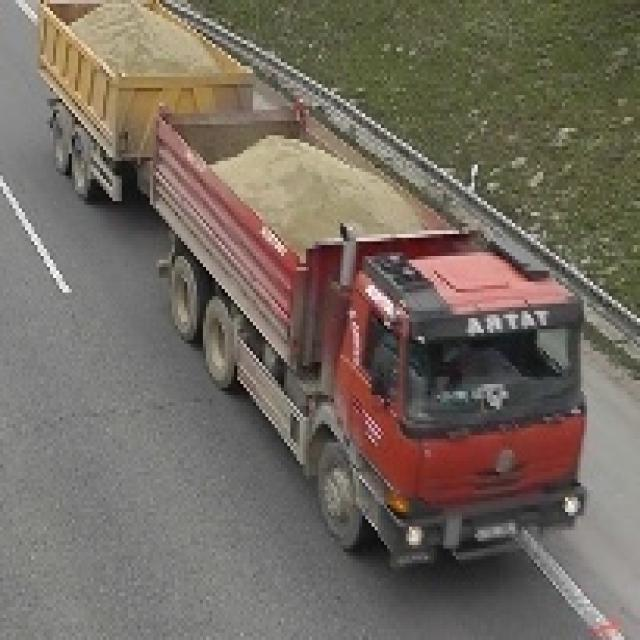truck: (38, 1, 588, 568)
